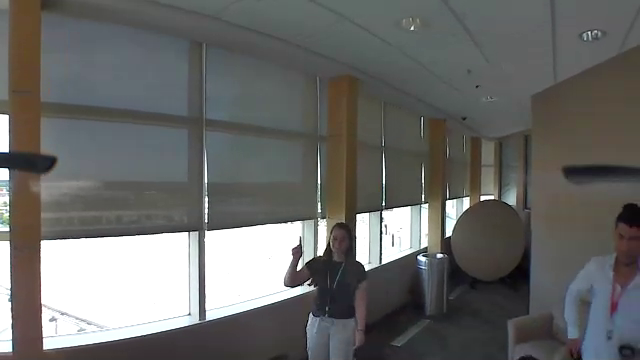up: (289, 231, 306, 264)
